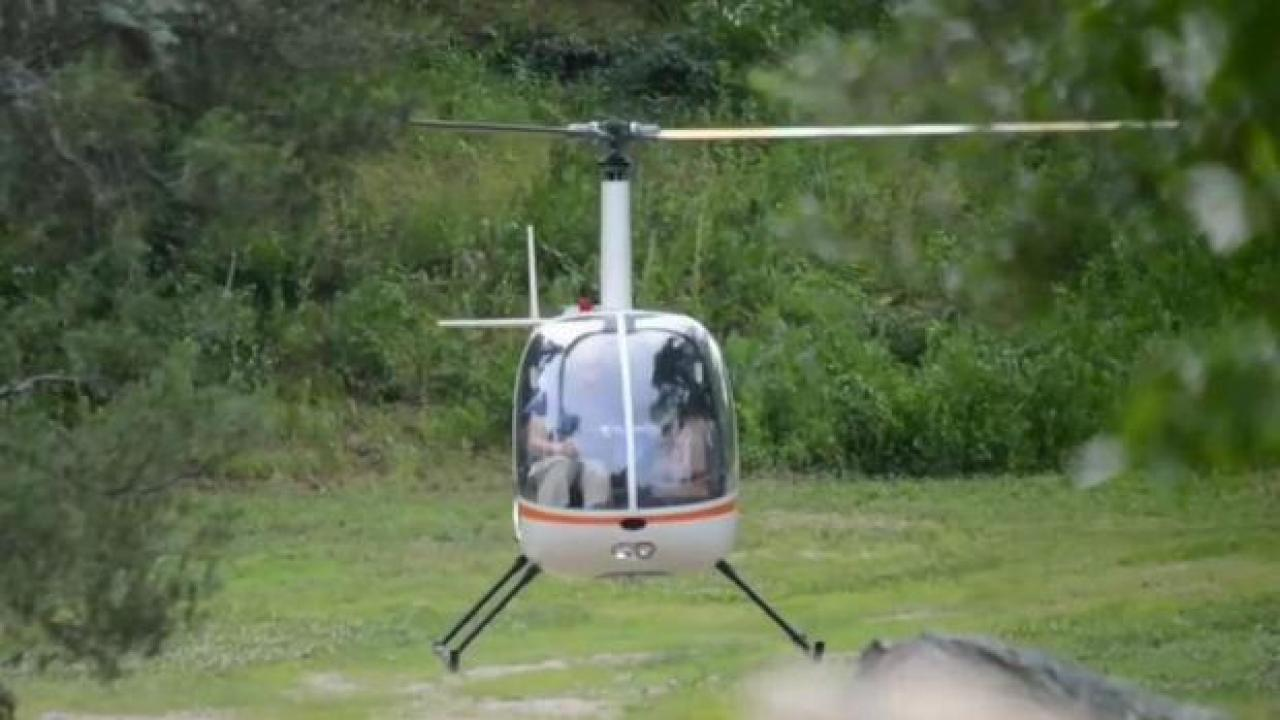Helicopter: (385, 106, 1195, 678)
